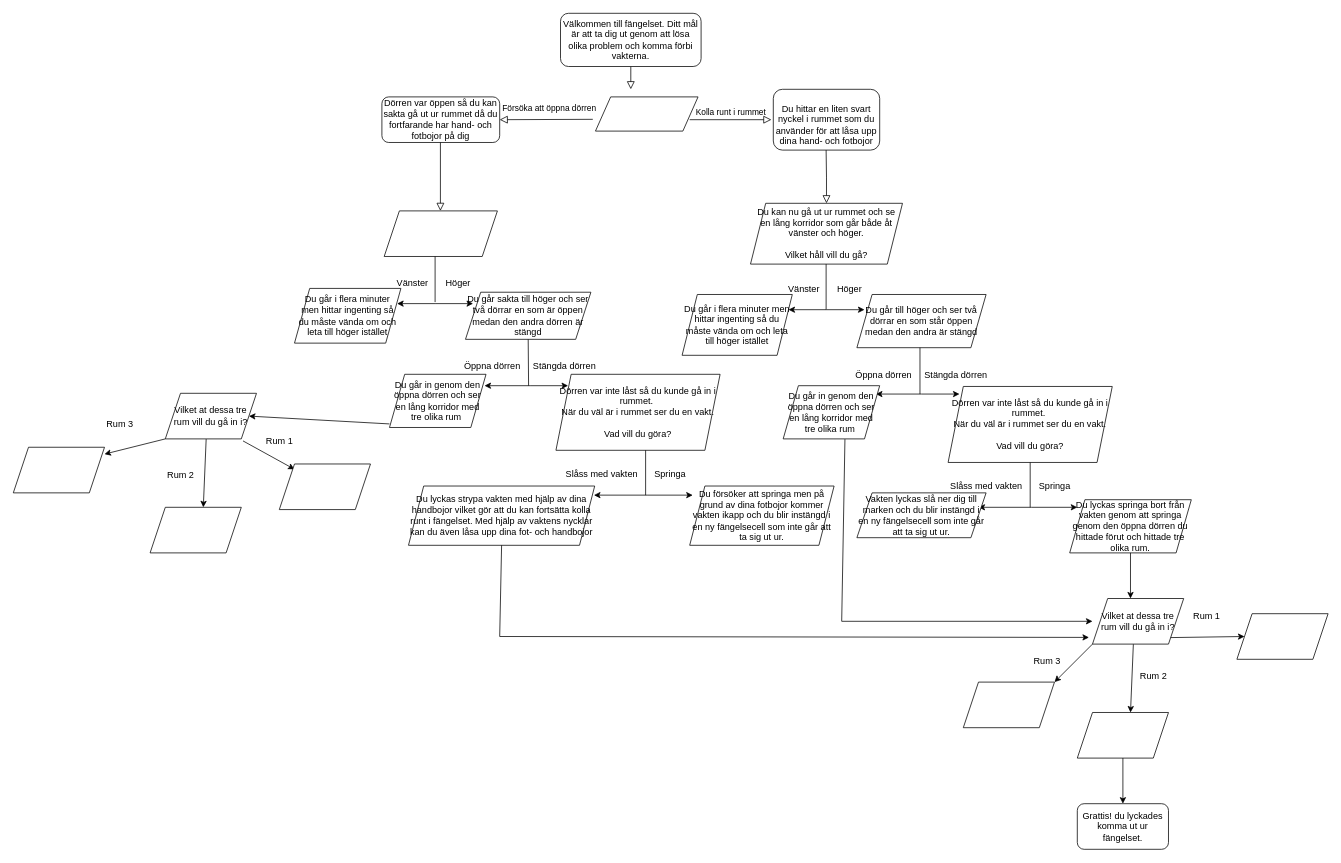
Image size: 1341x863. Some labels were removed from this diagram. Each missing label, with the centre of its shape:
Du haltar sakta ut ur rummet. Vill du gå åt vänster eller höger?: the point at 440,233
I detta rum fanns det ett öppet fönster som du lyckas klämma dig ut ur.: the point at 1122,735
Vad vill du göra?: the point at 646,113
